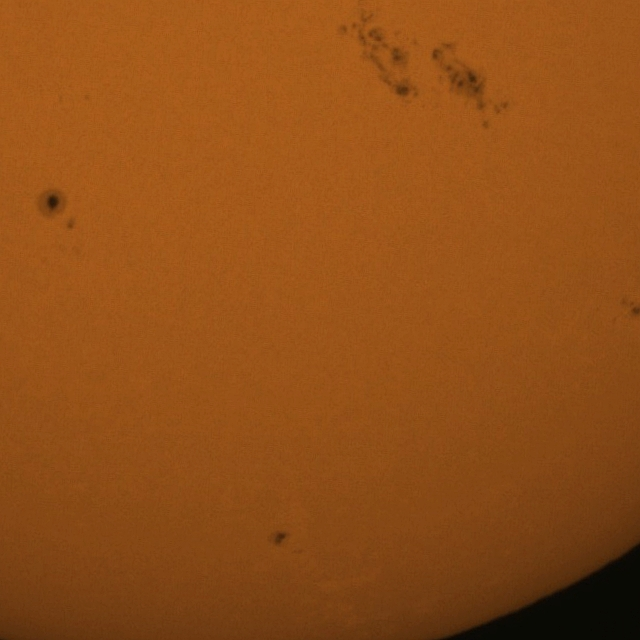sunspot: (344, 18, 414, 115), (428, 41, 483, 97), (41, 195, 84, 245), (476, 95, 508, 131), (267, 530, 288, 548), (628, 299, 640, 318)
